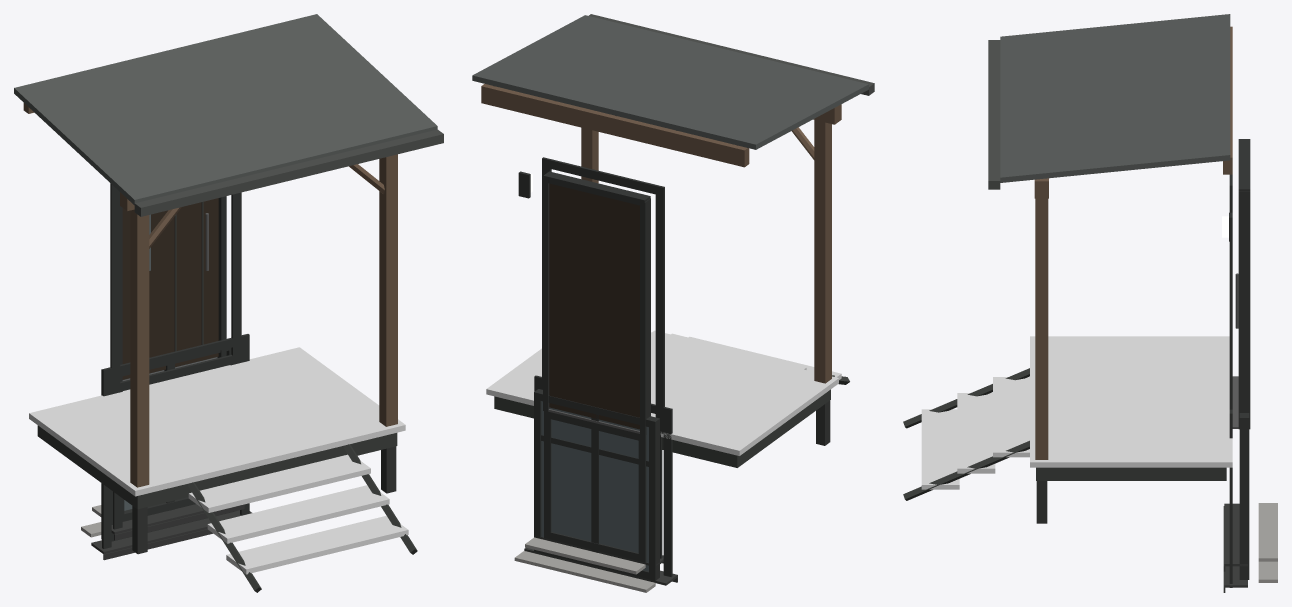
Rendered from kit.glb.
The picture shows the model from 3 angles, left to right: view 1: azimuth 30°, elevation 25°; view 2: azimuth 150°, elevation 25°; view 3: azimuth 270°, elevation 25°; orthographic projection. The views are drawn at different scales.
Visible parts, largest first — view 1: kit_door_roof, kit_door_deck, kit_door_timber, kit_door_door, kit_door_trim, kit_door_gutter, kit_door_casing, kit_window_casing, kit_door_frame, kit_window_sill, kit_window_s_sill, kit_door_post (+3 smaller); view 2: kit_door_roof, kit_door_door, kit_door_deck, kit_door_timber, kit_window_glass, kit_window_s_glass, kit_door_frame, kit_window_frame, kit_door_casing, kit_window_s_frame, kit_door_trim, kit_window_casing (+5 smaller); view 3: kit_door_roof, kit_door_deck, kit_door_timber, kit_door_trim, kit_door_frame, kit_door_gutter, kit_window_frame, kit_window_s_insill, kit_window_s_sill, kit_door_casing, kit_door_steel, kit_window_casing (+1 smaller).
Boxes of the visible parts, x1=… form: kit_door_roof: x1=14, y1=14, x2=437, y2=205; kit_door_deck: x1=29, y1=347, x2=408, y2=574; kit_door_timber: x1=23, y1=103, x2=397, y2=487; kit_door_door: x1=122, y1=198, x2=218, y2=379; kit_door_trim: x1=37, y1=201, x2=417, y2=592; kit_door_gutter: x1=134, y1=129, x2=443, y2=216; kit_door_casing: x1=110, y1=183, x2=241, y2=394; kit_window_casing: x1=102, y1=334, x2=249, y2=548; kit_door_frame: x1=120, y1=196, x2=226, y2=381; kit_window_sill: x1=91, y1=510, x2=251, y2=560; kit_window_s_sill: x1=111, y1=504, x2=244, y2=540; kit_door_post: x1=132, y1=446, x2=396, y2=554; kit_door_roof: x1=472, y1=15, x2=868, y2=149; kit_door_door: x1=549, y1=183, x2=639, y2=429; kit_door_deck: x1=486, y1=330, x2=841, y2=455; kit_door_timber: x1=481, y1=84, x2=841, y2=383; kit_window_glass: x1=541, y1=401, x2=648, y2=571; kit_window_s_glass: x1=551, y1=420, x2=638, y2=552; kit_door_frame: x1=518, y1=171, x2=650, y2=435; kit_window_frame: x1=534, y1=389, x2=659, y2=580; kit_door_casing: x1=542, y1=157, x2=664, y2=433; kit_window_s_frame: x1=544, y1=411, x2=646, y2=562; kit_door_trim: x1=494, y1=375, x2=849, y2=467; kit_window_casing: x1=534, y1=375, x2=672, y2=576; kit_door_roof: x1=1000, y1=14, x2=1230, y2=182; kit_door_deck: x1=921, y1=336, x2=1232, y2=489; kit_door_timber: x1=1034, y1=26, x2=1232, y2=459; kit_door_trim: x1=903, y1=368, x2=1226, y2=500; kit_door_frame: x1=1229, y1=139, x2=1250, y2=429; kit_door_gutter: x1=988, y1=40, x2=1000, y2=189; kit_window_frame: x1=1239, y1=413, x2=1249, y2=579; kit_window_s_insill: x1=1258, y1=503, x2=1277, y2=561; kit_window_s_sill: x1=1223, y1=503, x2=1247, y2=571; kit_door_casing: x1=1229, y1=174, x2=1232, y2=409; kit_door_steel: x1=1232, y1=273, x2=1238, y2=428; kit_window_casing: x1=1229, y1=409, x2=1232, y2=587.
Size of the model in its own units: 2.8 by 4.33 by 3.14.
